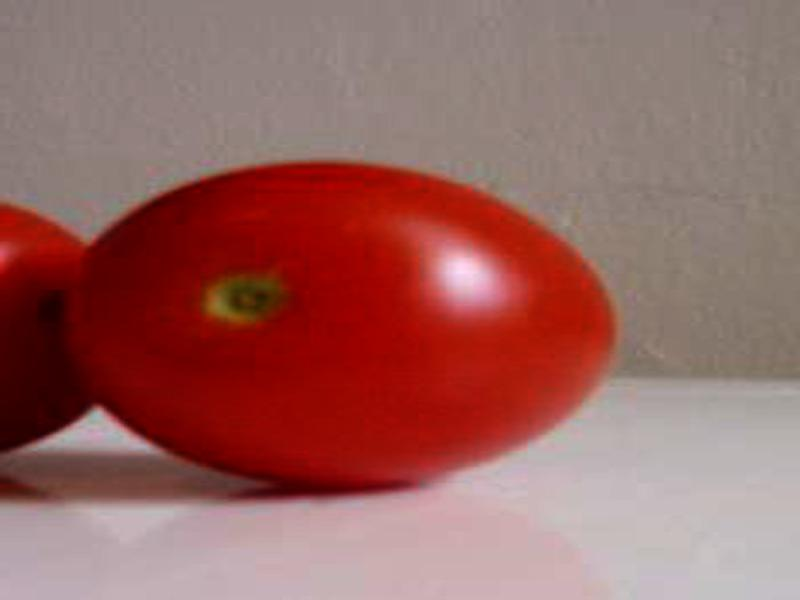Tomato: (70, 163, 615, 485)
